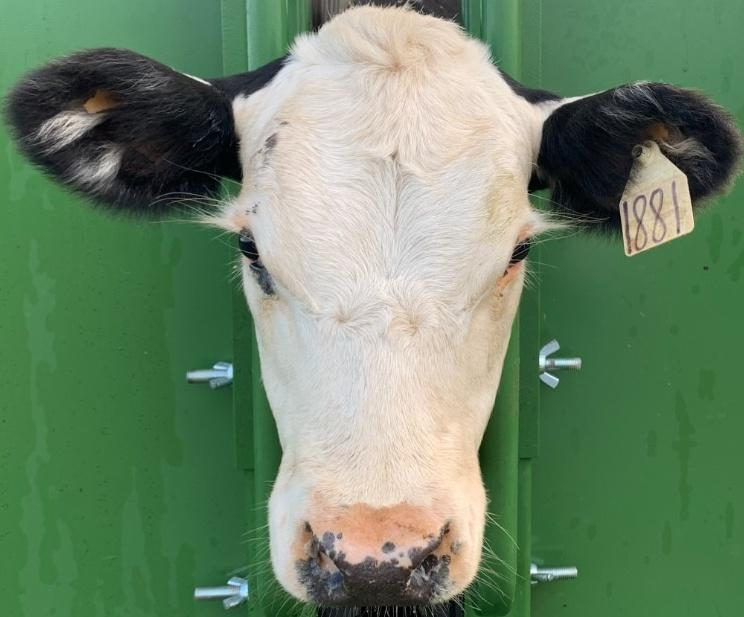muzzles: (252, 494, 502, 610)
